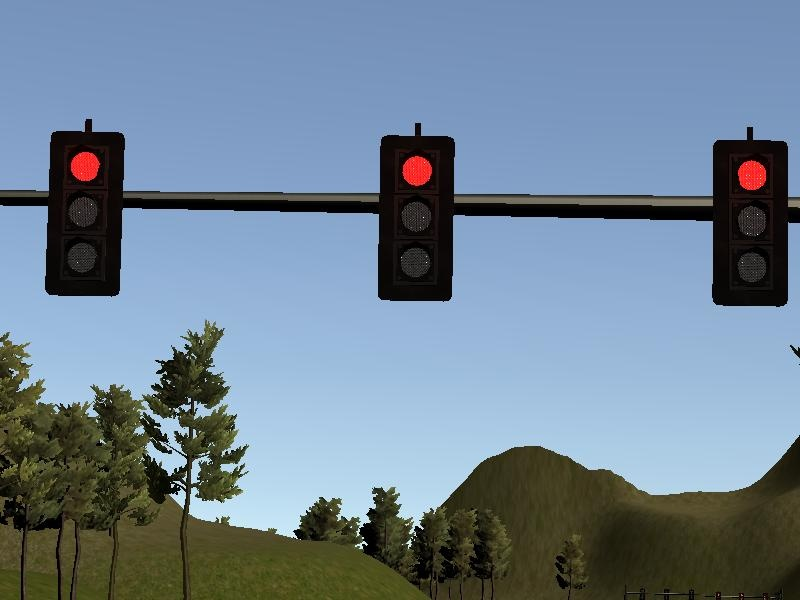traffic_light_red: (36, 111, 797, 311)
